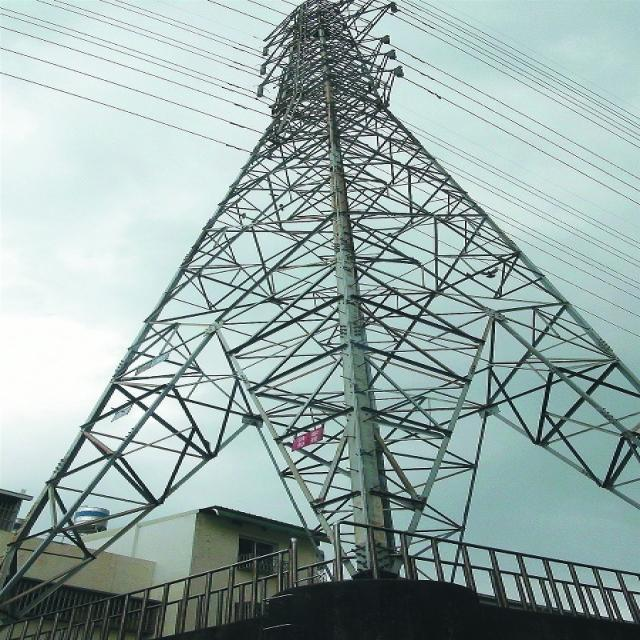non-critical vegetation: (101, 2, 612, 570)
